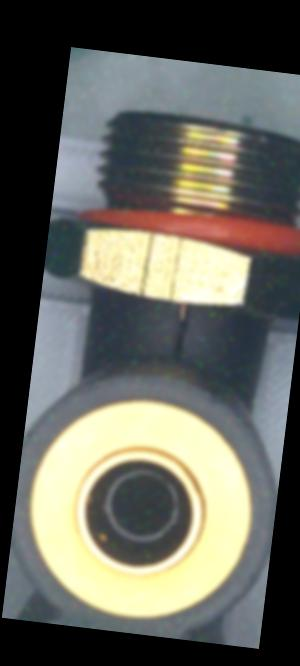craze: (167, 301, 192, 364)
